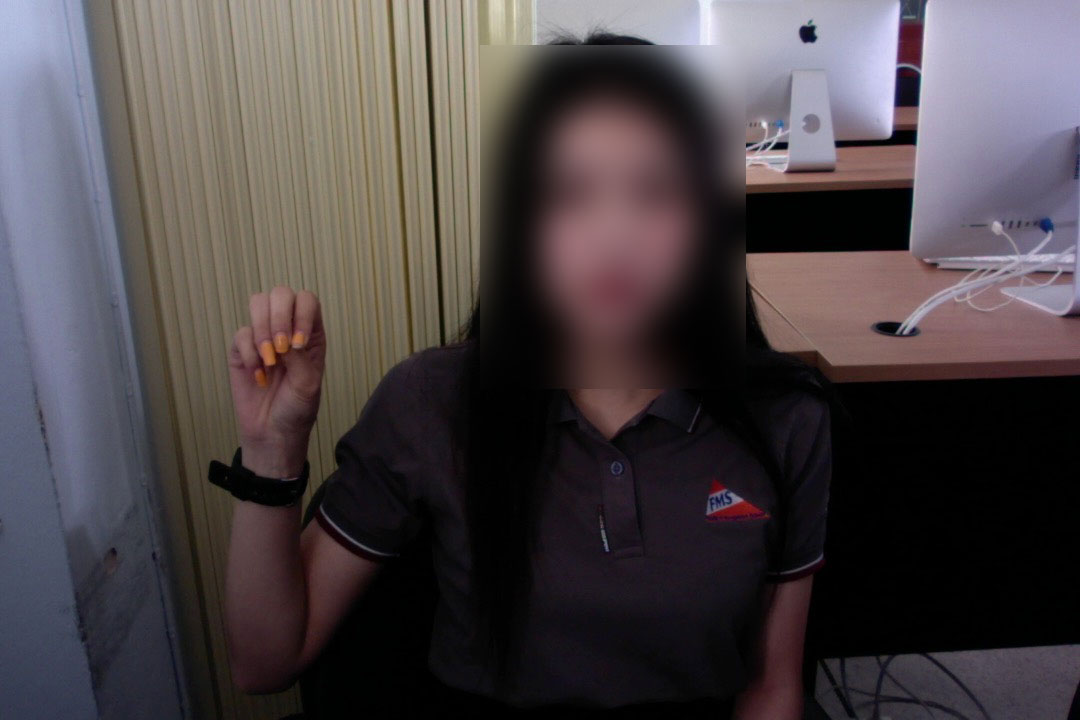mor: (221, 282, 332, 459)
